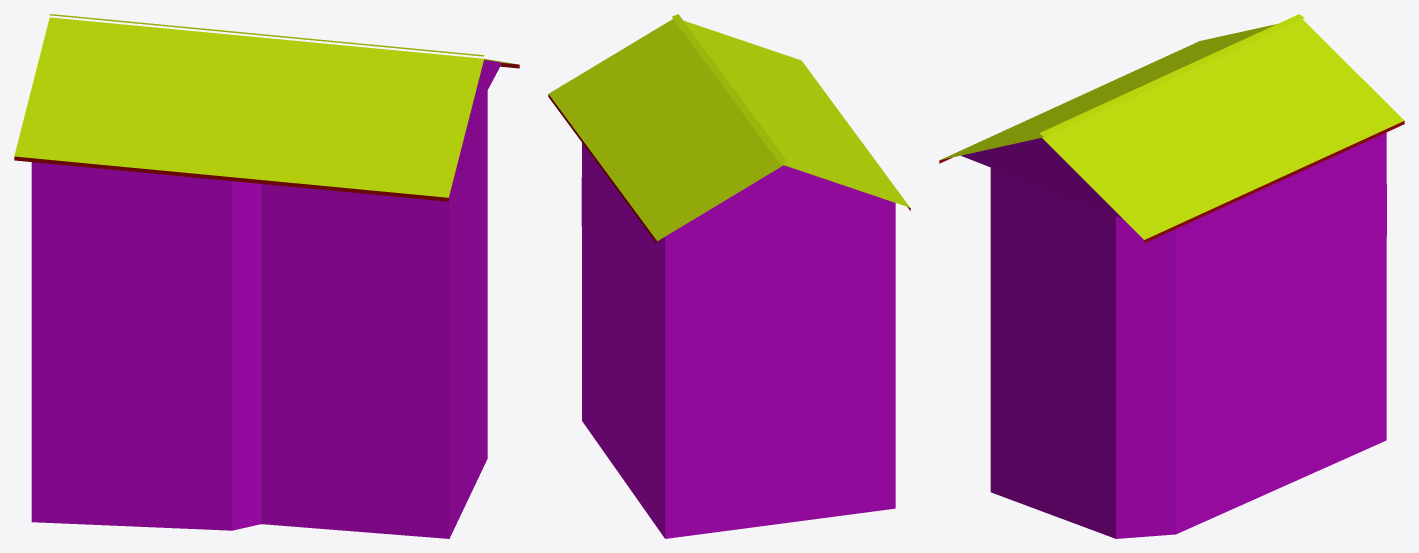
3 renders of one model, left to right at view 1: azimuth 30°, elevation 25°; view 2: azimuth 150°, elevation 25°; view 3: azimuth 270°, elevation 25°, orthographic. The views are drawn at different scales.
Parts seen in each view (by area): view 1: sc_109; view 2: sc_109; view 3: sc_109.
Part boxes in pixels (x1,y1,x2,y2): sc_109: (14,14,519,538); sc_109: (548,14,910,538); sc_109: (939,14,1404,538).
Bounding box in the file's own units: 15.03 × 13.55 × 14.83.
